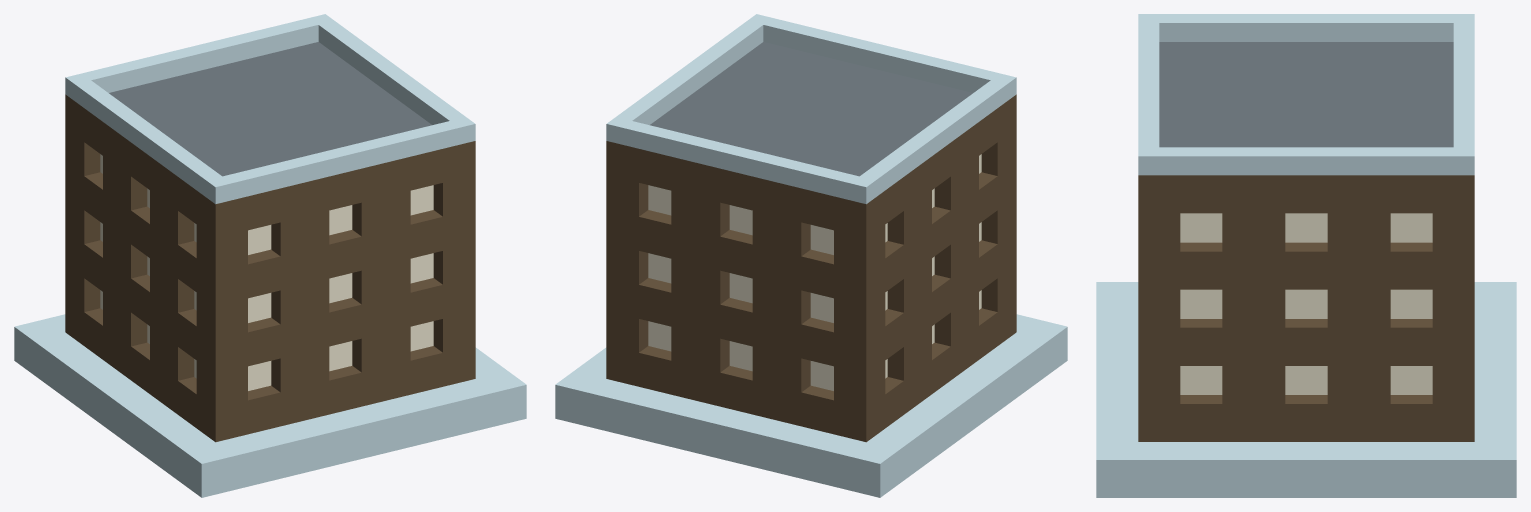
File: Building_2_Base (Brown).obj
3 views of the same model, side by side, from view 1: azimuth 30°, elevation 25°; view 2: azimuth 150°, elevation 25°; view 3: azimuth 270°, elevation 25° (orthographic). The views are drawn at different scales.
Visible parts, largest first — view 1: Building_2_Base_(Brown); view 2: Building_2_Base_(Brown); view 3: Building_2_Base_(Brown).
Boxes of the visible parts, x1,y1,x2,y2 form: Building_2_Base_(Brown): (14, 14, 526, 497); Building_2_Base_(Brown): (555, 14, 1067, 497); Building_2_Base_(Brown): (1096, 14, 1516, 497).
Bounding box in the file's own units: 2 × 1.7 × 2.
